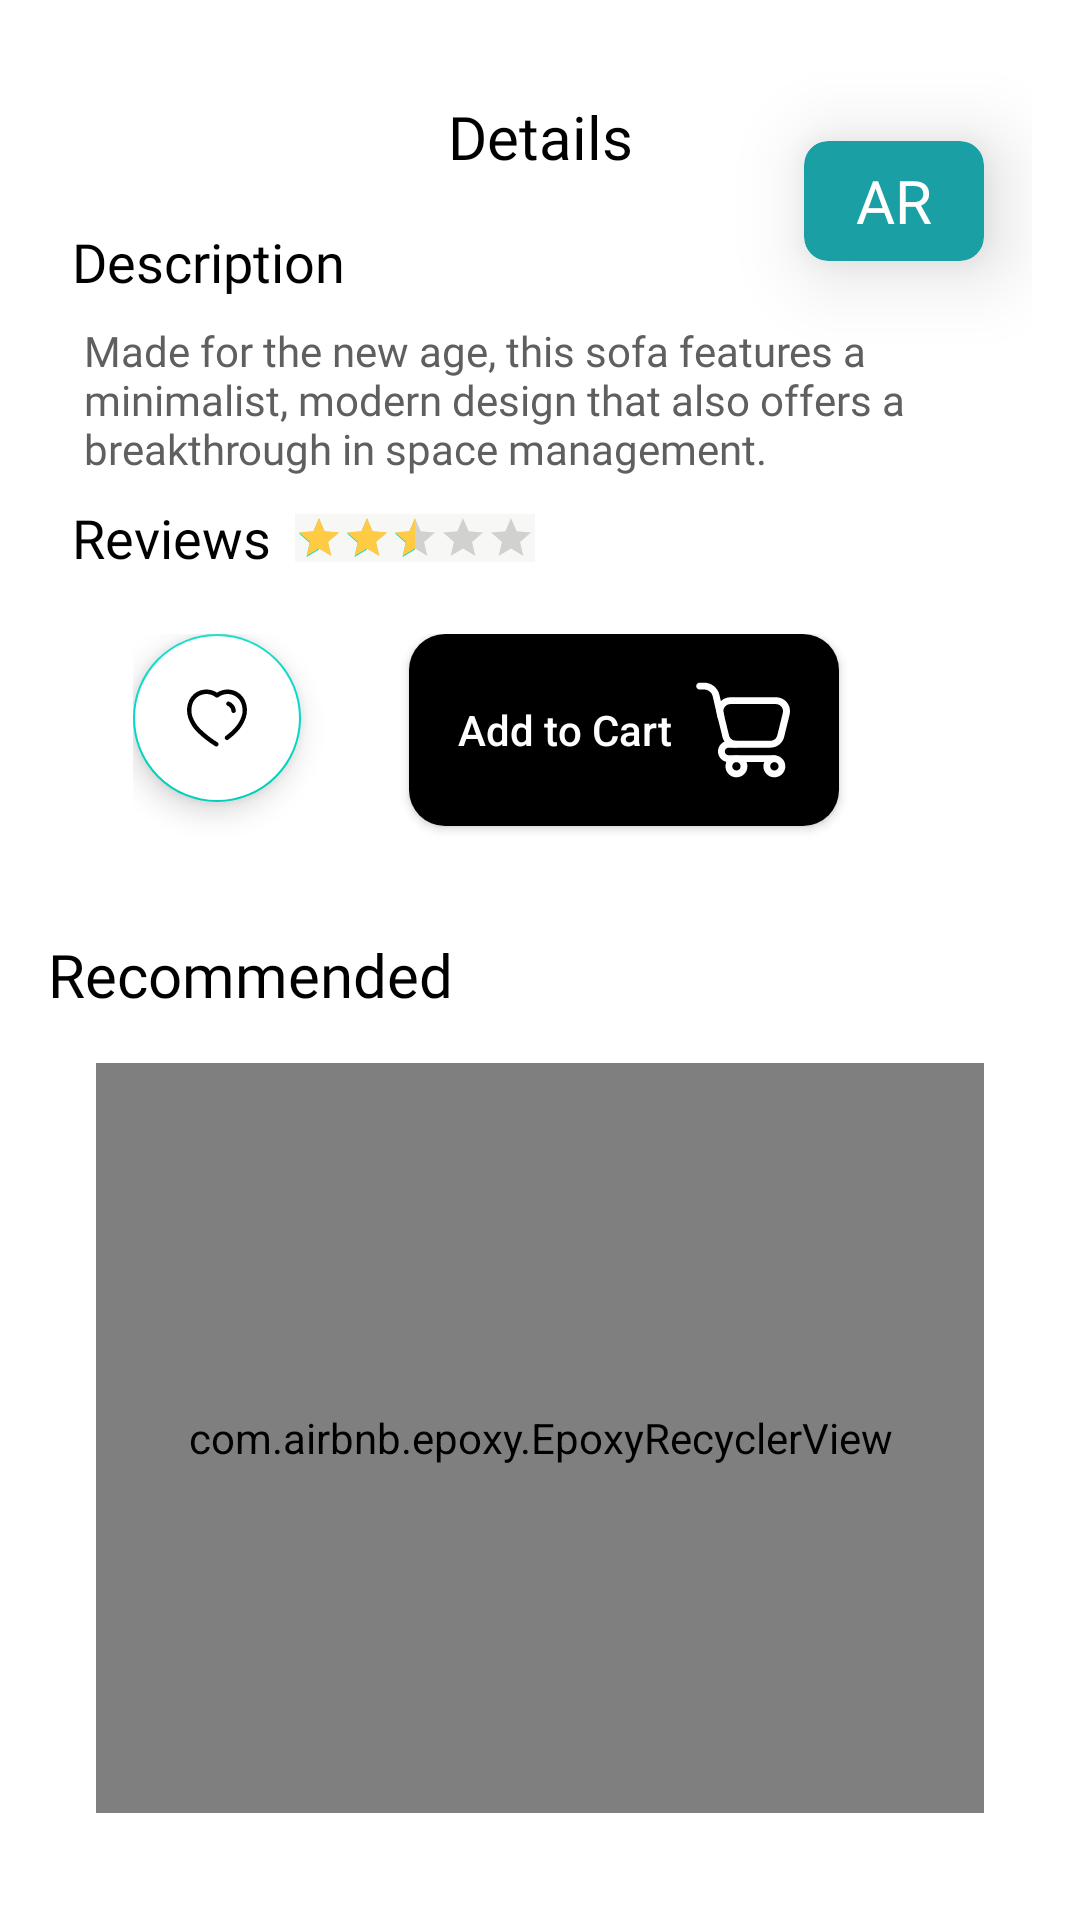

Named icons in this screenshot (1080 x 1920) and their centers, [x,y]:
wishlist: [217,718]
